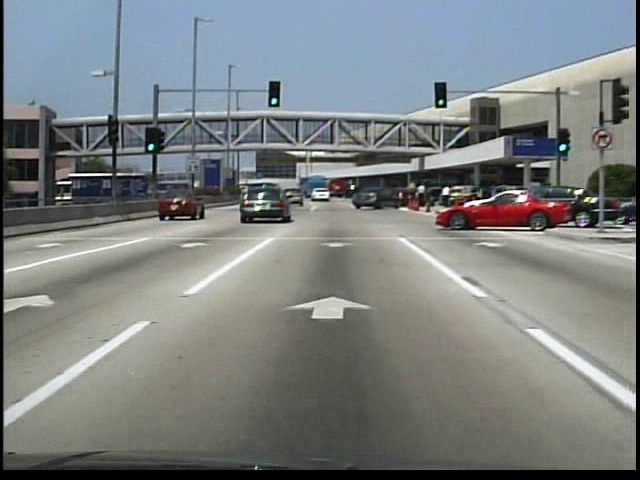person: (414, 180, 430, 210), (440, 186, 454, 211), (224, 132, 232, 147)
